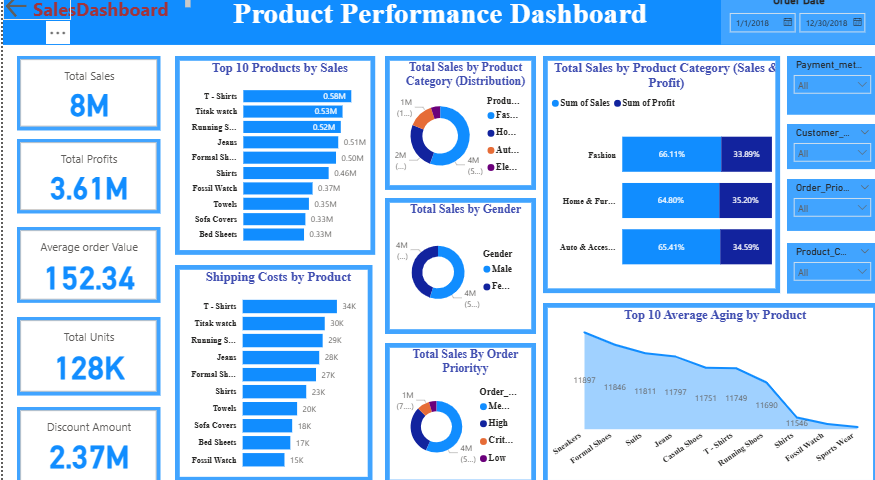

The dashboard page shown, as its layout file describes it:
{"tool":"powerbi","page":{"name":"Products Performance  Dashboard","canvas":[1280,720],"ordinal":1},"visuals":[{"type":"textbox","box":[0,0,1280,75.7],"z":0},{"type":"cardVisual","fields":{"Data":["E-commerce Dataset (2).Total Sales"]},"box":[20,92.9,210,108.6],"z":1000},{"type":"cardVisual","fields":{"Data":["E-commerce Dataset (2).Total Profits"]},"box":[20.1,213.4,209.7,109.4],"z":2000},{"type":"cardVisual","fields":{"Data":["E-commerce Dataset (2).Average order Value"]},"box":[20.1,342.9,209.7,111.3],"z":3000},{"type":"cardVisual","fields":{"Data":["E-commerce Dataset (2).Total Units"]},"box":[20.1,474.2,209.7,114.9],"z":4000},{"type":"cardVisual","fields":{"Data":["E-commerce Dataset (2).Discount Amount"]},"box":[20.1,605.5,209.7,114.9],"z":5000},{"type":"clusteredBarChart","title":"Top 10 Products by Sales","fields":{"Category":["E-commerce Dataset (2).Product"],"Y":["Sum(E-commerce Dataset (2).Sales)"]},"box":[251.4,92.9,292.9,291.4],"z":6000},{"type":"hundredPercentStackedBarChart","title":"Total Sales by Product Category (Sales & Profit)","fields":{"Category":["E-commerce Dataset (2).Product_Category"],"Y":["Sum(E-commerce Dataset (2).Sales)","Sum(E-commerce Dataset (2).Profit)"]},"box":[790,92.9,347.1,347.1],"z":7000},{"type":"donutChart","title":"Total Sales by Gender","fields":{"Y":["Sum(E-commerce Dataset (2).Sales)"],"Category":["E-commerce Dataset (2).Gender"]},"box":[558.6,300,221.4,198.6],"z":8000},{"type":"donutChart","title":"Total Sales By Order Priorityy ","fields":{"Category":["E-commerce Dataset (2).Order_Priority"],"Y":["Sum(E-commerce Dataset (2).Sales)"]},"box":[558.6,512.9,221.4,207.1],"z":9000},{"type":"donutChart","title":"Total Sales by Product Category (Distribution)","fields":{"Y":["Sum(E-commerce Dataset (2).Sales)"],"Category":["E-commerce Dataset (2).Product_Category"]},"box":[558.6,92.9,221.4,195.7],"z":10000},{"type":"clusteredBarChart","title":"Shipping Costs by Product","fields":{"Category":["E-commerce Dataset (2).Product"],"Y":["Sum(E-commerce Dataset (2).Shipping_Cost)"]},"box":[251.4,398.6,288.6,317.1],"z":11000},{"type":"stackedAreaChart","title":"Top 10 Average Aging by Product","fields":{"Y":["Sum(E-commerce Dataset (2).Aging)"],"Category":["E-commerce Dataset (2).Product"]},"box":[790,454.3,490,265.7],"z":12000},{"type":"slicer","title":"Order Date ","fields":{"Values":["E-commerce Dataset (2).Order_Date"]},"box":[1051.4,1.4,228.6,74.3],"z":13000},{"type":"slicer","fields":{"Values":["E-commerce Dataset (2).Payment_method"]},"box":[1147.1,92.9,132.9,85.7],"z":14000},{"type":"slicer","fields":{"Values":["E-commerce Dataset (2).Order_Priority"]},"box":[1147.1,272.9,132.9,75.7],"z":15000},{"type":"slicer","fields":{"Values":["E-commerce Dataset (2).Product_Category"]},"box":[1147.1,365.7,132.9,74.3],"z":16000},{"type":"slicer","fields":{"Values":["E-commerce Dataset (2).Customer_Login_type"]},"box":[1147.1,191.4,132.9,65.7],"z":17000},{"type":"textbox","box":[40,0,240,38.6],"z":18000},{"type":"actionButton","box":[0,0,100,40],"z":19000},{"type":"actionButton","box":[0,0,100,40],"z":20000}]}

Visuals, with their boxes in screenshot pixels (x1, y1, x2, y2):
textbox: x1=2, y1=0, x2=874, y2=43
cardVisual - E-commerce Dataset (2).Total Sales: x1=16, y1=54, x2=159, y2=128
cardVisual - E-commerce Dataset (2).Total Profits: x1=16, y1=137, x2=159, y2=211
cardVisual - E-commerce Dataset (2).Average order Value: x1=16, y1=225, x2=159, y2=301
cardVisual - E-commerce Dataset (2).Total Units: x1=16, y1=315, x2=159, y2=393
cardVisual - E-commerce Dataset (2).Discount Amount: x1=16, y1=404, x2=159, y2=479
"Top 10 Products by Sales" clusteredBarChart: x1=174, y1=54, x2=374, y2=253
"Total Sales by Product Category (Sales & Profit)" hundredPercentStackedBarChart: x1=542, y1=54, x2=779, y2=291
"Total Sales by Gender" donutChart: x1=384, y1=196, x2=535, y2=331
"Total Sales By Order Priorityy " donutChart: x1=384, y1=341, x2=535, y2=479
"Total Sales by Product Category (Distribution)" donutChart: x1=384, y1=54, x2=535, y2=188
"Shipping Costs by Product" clusteredBarChart: x1=174, y1=263, x2=371, y2=479
"Top 10 Average Aging by Product" stackedAreaChart: x1=542, y1=301, x2=874, y2=479
"Order Date " slicer: x1=720, y1=0, x2=874, y2=43
slicer - E-commerce Dataset (2).Payment_method: x1=785, y1=54, x2=874, y2=113
slicer - E-commerce Dataset (2).Order_Priority: x1=785, y1=177, x2=874, y2=229
slicer - E-commerce Dataset (2).Product_Category: x1=785, y1=241, x2=874, y2=291
slicer - E-commerce Dataset (2).Customer_Login_type: x1=785, y1=122, x2=874, y2=166
textbox: x1=30, y1=0, x2=193, y2=17
actionButton: x1=2, y1=0, x2=71, y2=18
actionButton: x1=2, y1=0, x2=71, y2=18
